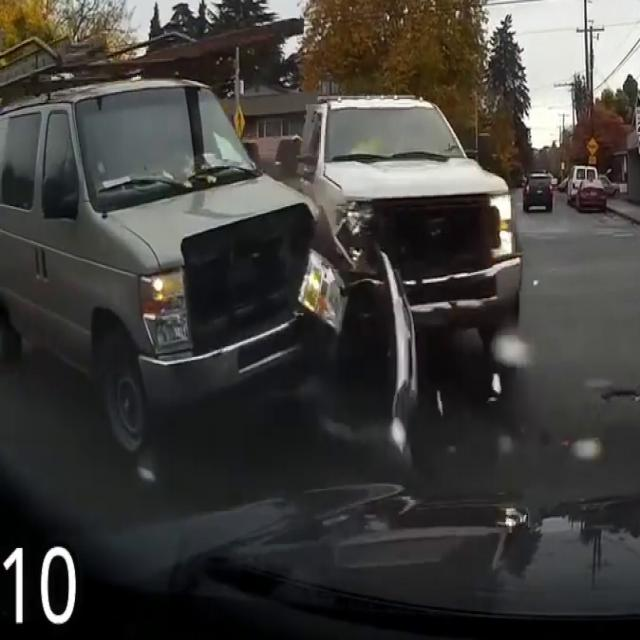accident: (52, 108, 528, 452)
